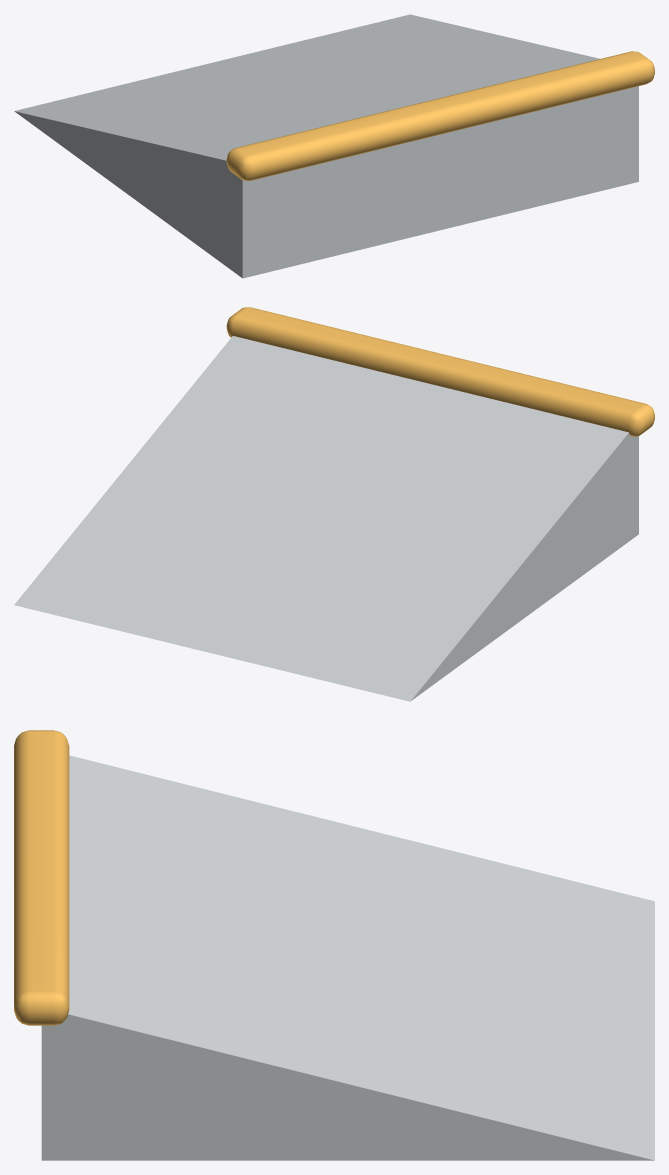
Rendered from ramp.glb.
3 renders of one model, top to bottom at view 1: azimuth 30°, elevation 25°; view 2: azimuth 150°, elevation 25°; view 3: azimuth 270°, elevation 25°, orthographic. The views are drawn at different scales.
Parts seen in each view (by area): view 1: Snow jump, Sunny jump edge; view 2: Snow jump, Sunny jump edge; view 3: Snow jump, Sunny jump edge.
Part boxes in pixels (left/top/right/bottom): Snow jump: left=14, top=14, right=638, bottom=278; Sunny jump edge: left=226, top=51, right=654, bottom=180; Snow jump: left=14, top=336, right=638, bottom=701; Sunny jump edge: left=226, top=307, right=654, bottom=436; Snow jump: left=41, top=755, right=654, bottom=1160; Sunny jump edge: left=14, top=730, right=69, bottom=1025.
Size of the model in its own units: 2.1 by 0.61 by 2.09.
